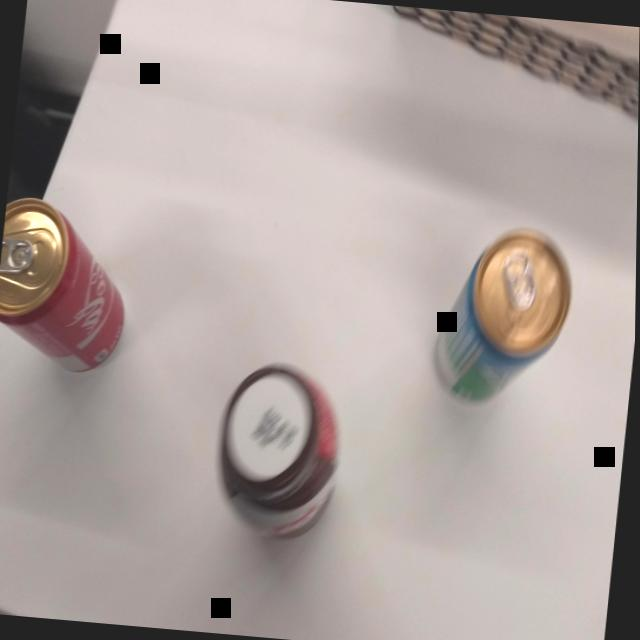chocolate_drink: (207, 354, 353, 555)
coke: (0, 192, 141, 386)
sprite: (423, 218, 586, 416)
